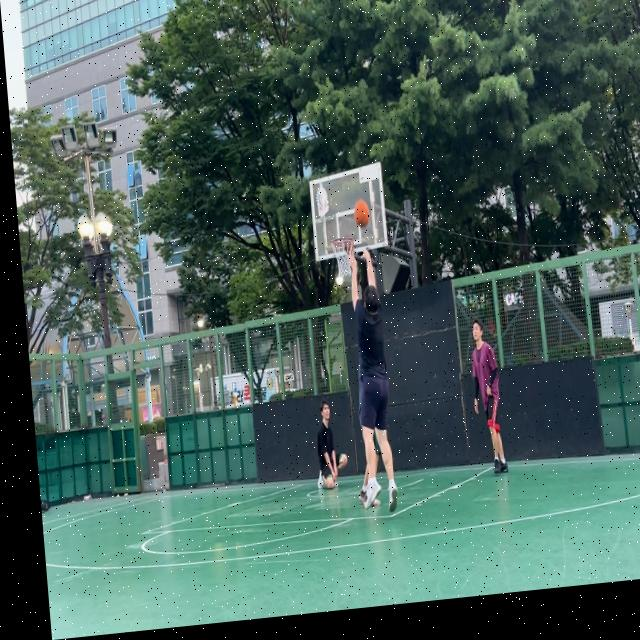basketball: (353, 197, 371, 227)
hoop: (331, 236, 357, 279)
